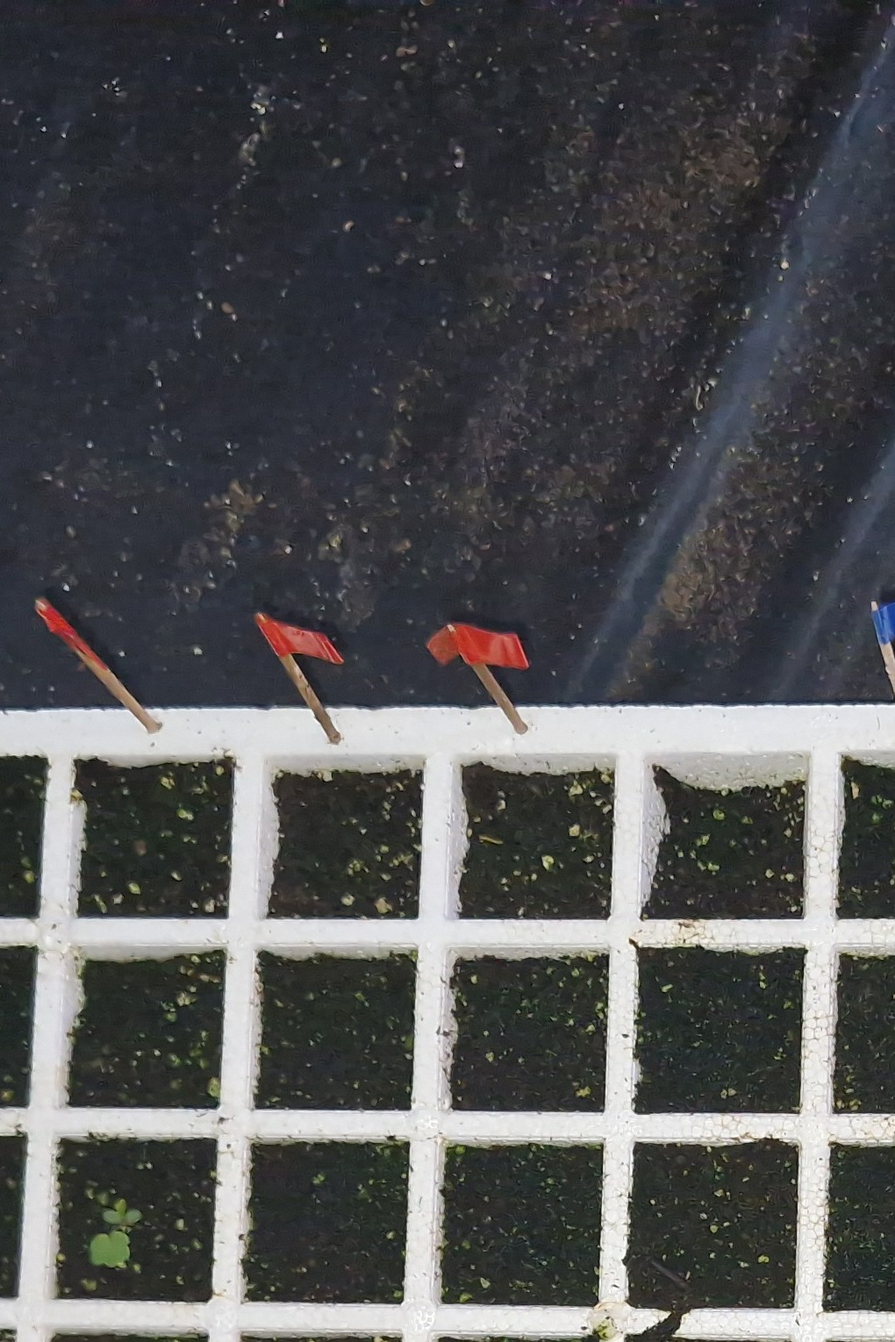Folha: (91, 1232, 130, 1267), (103, 1211, 121, 1224), (125, 1209, 142, 1222)
Germinacao: (91, 1210, 143, 1266)
